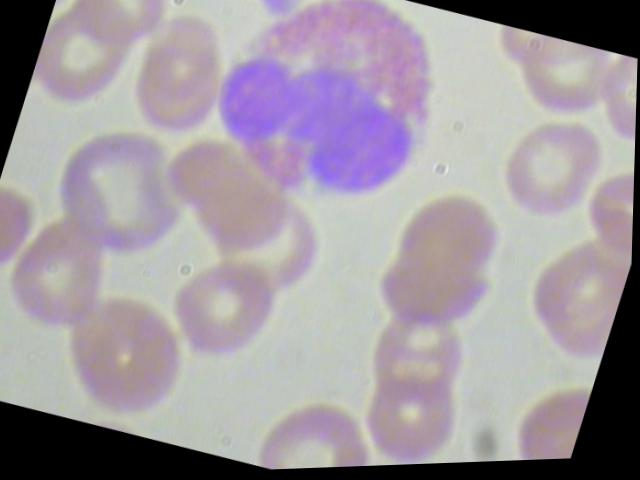Red Blood Cells: (37, 270, 203, 437), (485, 104, 621, 241), (156, 247, 292, 384), (0, 208, 128, 346), (384, 182, 520, 309), (26, 0, 158, 123), (352, 368, 477, 468), (51, 0, 181, 68)
White Blood Cells: (181, 0, 471, 241)
